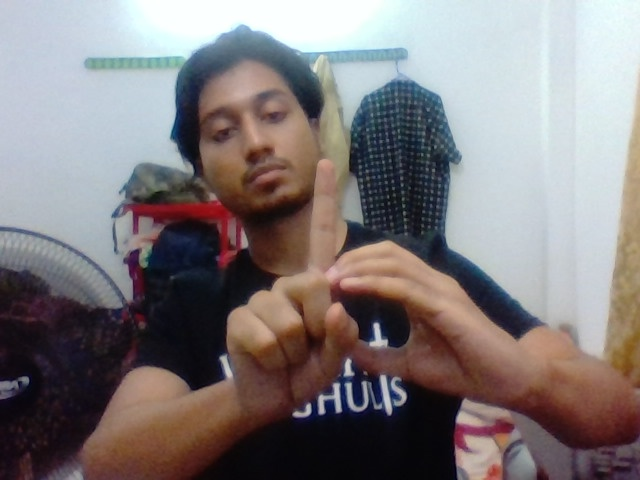D: (245, 148, 464, 389)
